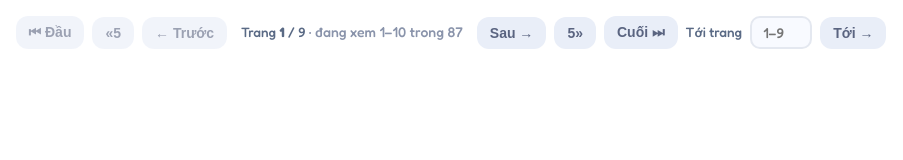
Test: nhảy xong thì ô sạch trở lại
Type "7" into the number field named "Tới trang số" at (781, 32), box top-left (750, 16), bottom-right (812, 49)
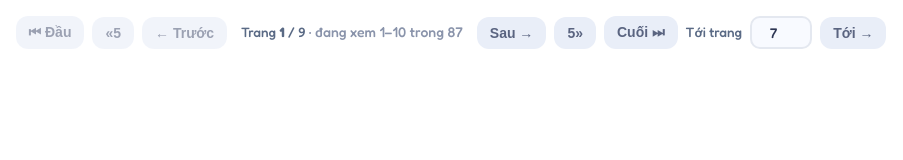
Submit the form named "Chuyển nhanh tới trang", box top-left (686, 16), bottom-right (886, 49)
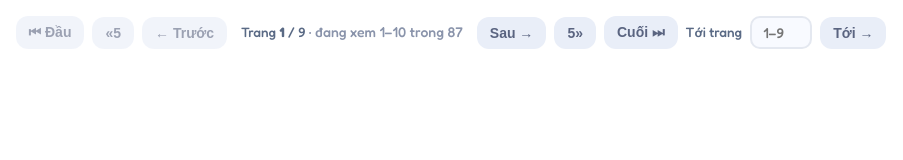
Result: the number field named "Tới trang số" is not empty at top-left (750, 16), bottom-right (812, 49)
